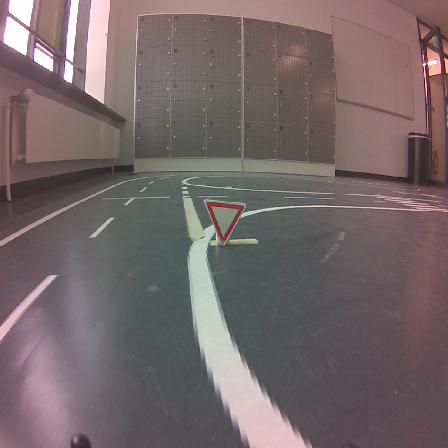GIVE_WAY: (204, 200, 245, 244)
